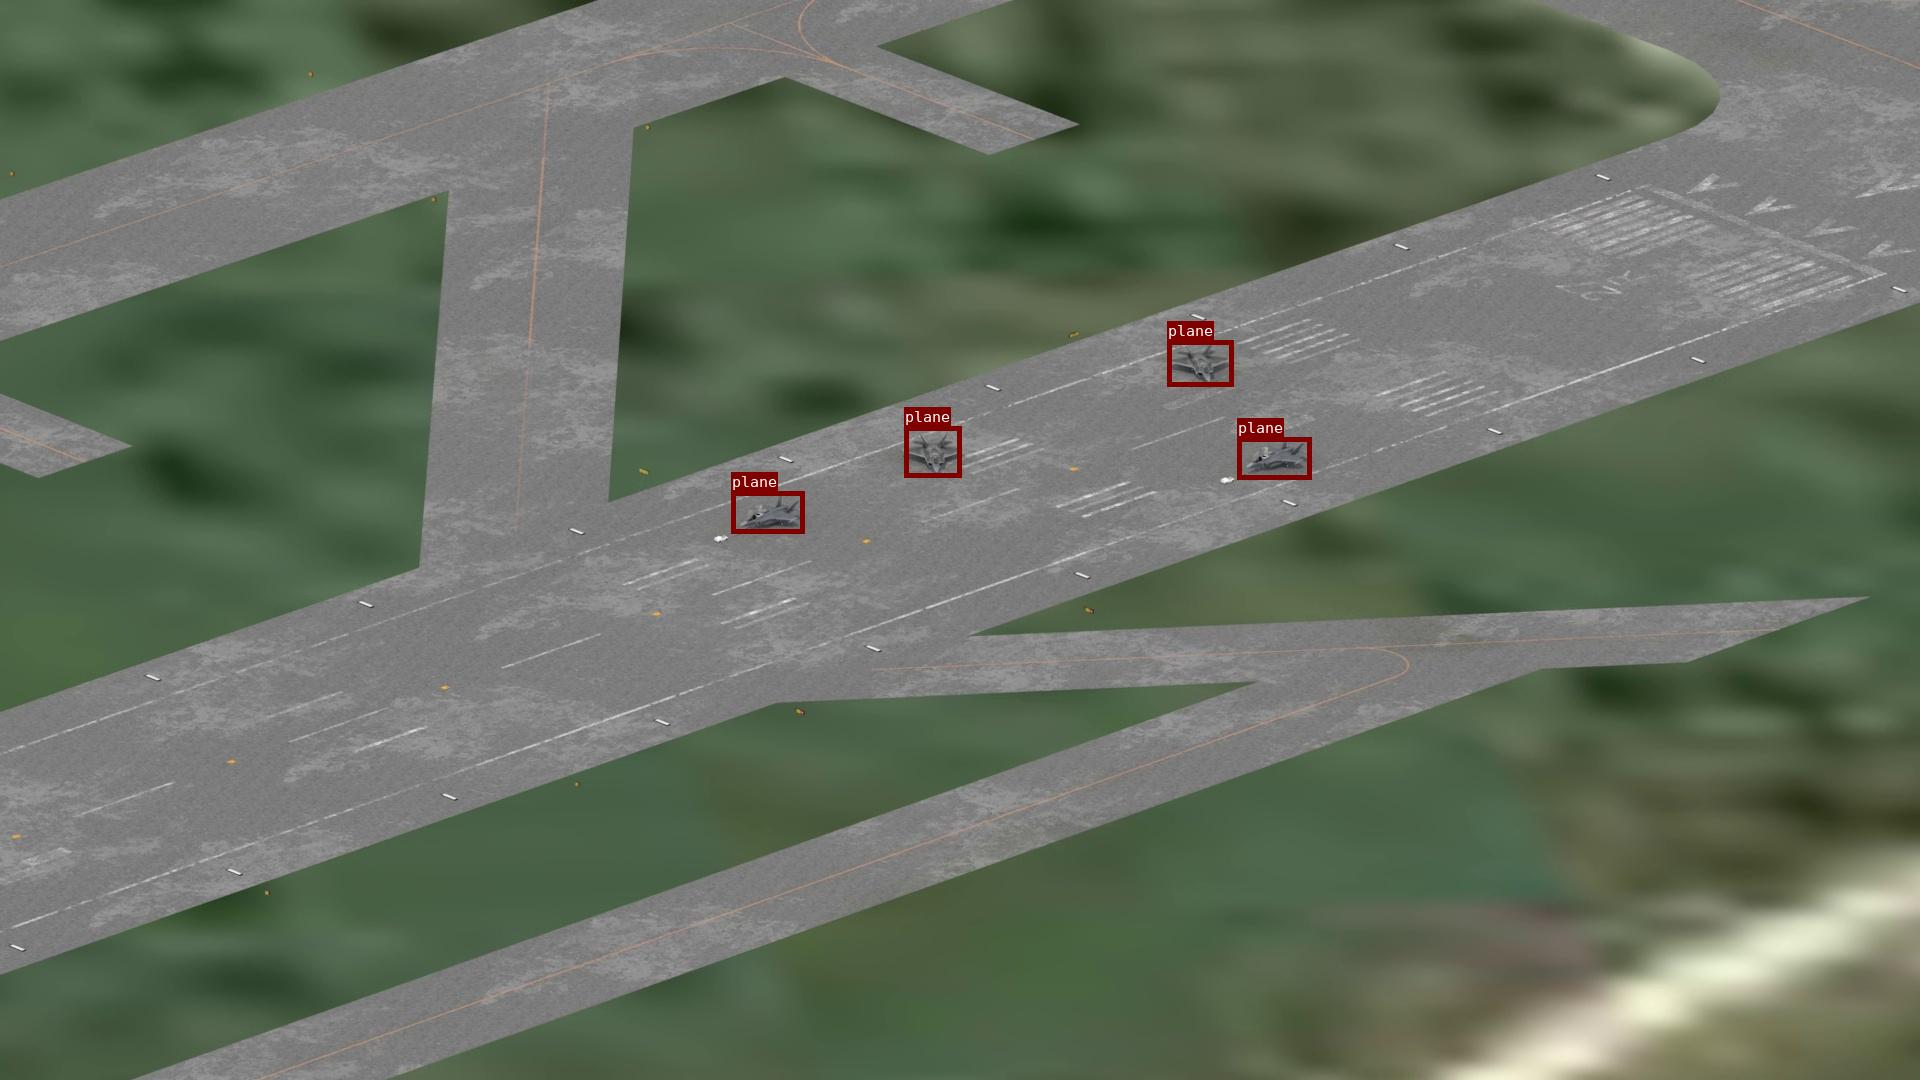plane: (731, 491, 804, 533), (1237, 436, 1311, 479), (1167, 340, 1233, 386), (905, 426, 961, 477)
